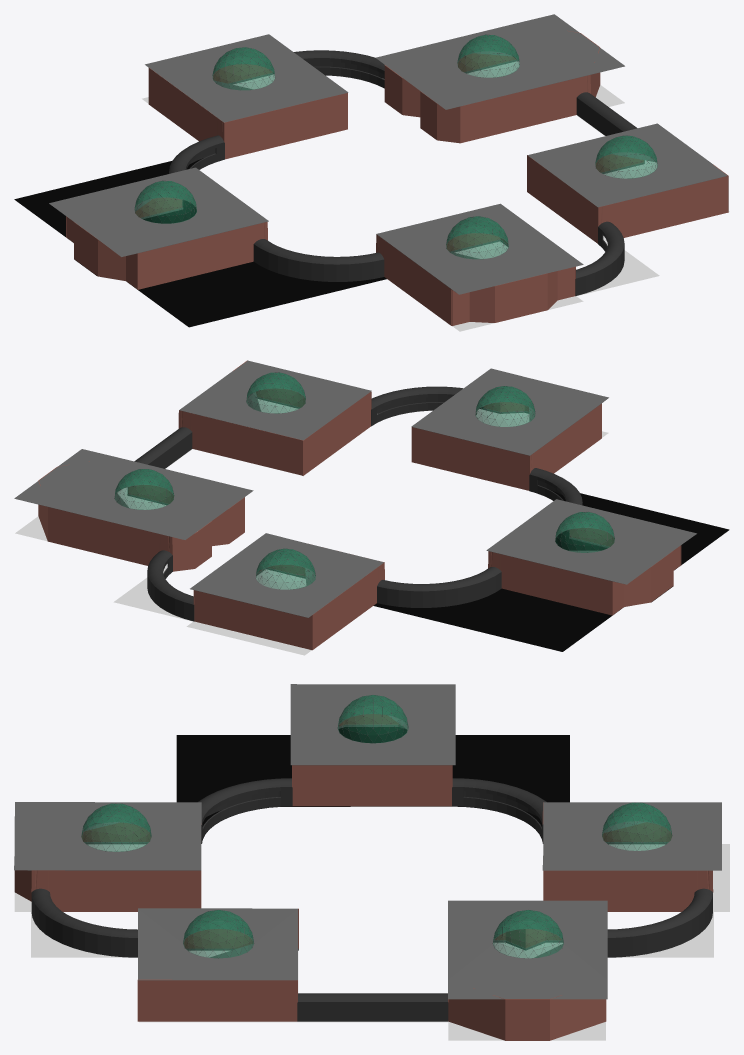
File: MuseoMejorado.fbx
3 views of the same model, one above another, from view 1: azimuth 30°, elevation 25°; view 2: azimuth 150°, elevation 25°; view 3: azimuth 270°, elevation 25° (orthographic). The views are drawn at different scales.
Parts seen in each view (by area): view 1: Techo.004, Plano, Techo, Techo.001, Techo.002, Techo.003, Cubo.020, Cubo.011, PasilloEnt1, Cubo.008, Cubo.003, PasilloDer (+22 smaller); view 2: Techo.004, Plano, Techo, Techo.001, Techo.002, Techo.003, Cubo.021, Cubo.009, PasilloEnt2, Cubo.015, Cubo.024, PasilloIzq (+21 smaller); view 3: Techo.004, Plano, Techo, Techo.001, Techo.002, Techo.003, Cubo.007, Pared, Cubo.017, Cubo.012, Cubo.006, Puerta (+18 smaller).
Boxes of the visible parts, x1=… form: Techo.004: x1=375, y1=14, x2=624, y2=109; Plano: x1=14, y1=158, x2=386, y2=327; Techo: x1=49, y1=167, x2=268, y2=256; Techo.001: x1=376, y1=203, x2=583, y2=294; Techo.002: x1=145, y1=34, x2=348, y2=122; Techo.003: x1=527, y1=123, x2=727, y2=207; Cubo.020: x1=460, y1=75, x2=590, y2=142; Cubo.011: x1=224, y1=93, x2=347, y2=159; PasilloEnt1: x1=137, y1=222, x2=267, y2=289; Cubo.008: x1=598, y1=176, x2=727, y2=237; Cubo.003: x1=452, y1=267, x2=575, y2=325; PasilloDer: x1=253, y1=239, x2=384, y2=281; Techo.004: x1=14, y1=449, x2=253, y2=539; Plano: x1=373, y1=489, x2=729, y2=651; Techo: x1=486, y1=499, x2=696, y2=584; Techo.001: x1=411, y1=368, x2=608, y2=455; Techo.002: x1=190, y1=533, x2=383, y2=617; Techo.003: x1=179, y1=360, x2=371, y2=440; Cubo.021: x1=411, y1=427, x2=529, y2=490; Cubo.009: x1=178, y1=410, x2=302, y2=475; PasilloEnt2: x1=488, y1=551, x2=612, y2=615; Cubo.015: x1=48, y1=507, x2=172, y2=565; Cubo.024: x1=194, y1=590, x2=311, y2=649; PasilloIzq: x1=377, y1=567, x2=501, y2=607; Techo.004: x1=448, y1=900, x2=607, y2=999; Plano: x1=176, y1=727, x2=569, y2=842; Techo: x1=290, y1=684, x2=455, y2=765; Techo.001: x1=14, y1=802, x2=201, y2=870; Techo.002: x1=542, y1=802, x2=721, y2=870; Techo.003: x1=138, y1=908, x2=297, y2=980; Cubo.007: x1=137, y1=979, x2=297, y2=1021; Pared: x1=292, y1=765, x2=451, y2=806; Cubo.017: x1=31, y1=870, x2=200, y2=911; Cubo.012: x1=544, y1=870, x2=713, y2=911; Cubo.006: x1=448, y1=988, x2=606, y2=1040; Puerta: x1=297, y1=993, x2=448, y2=1021.
Size of the model in its own units: 16740 by 1788 by 16084.
